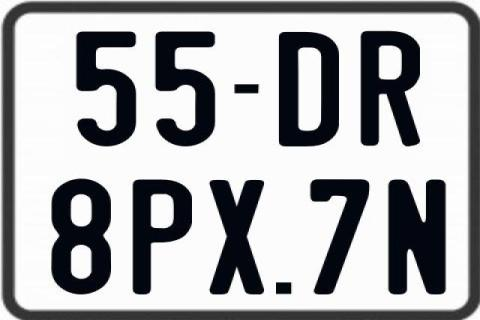0: (153, 31, 219, 151), (48, 177, 112, 295), (75, 30, 136, 148), (310, 180, 369, 300)
D: (278, 30, 344, 150)
N: (388, 177, 449, 296)
P: (132, 177, 191, 297)
R: (360, 31, 425, 151)
X: (209, 180, 269, 296)
